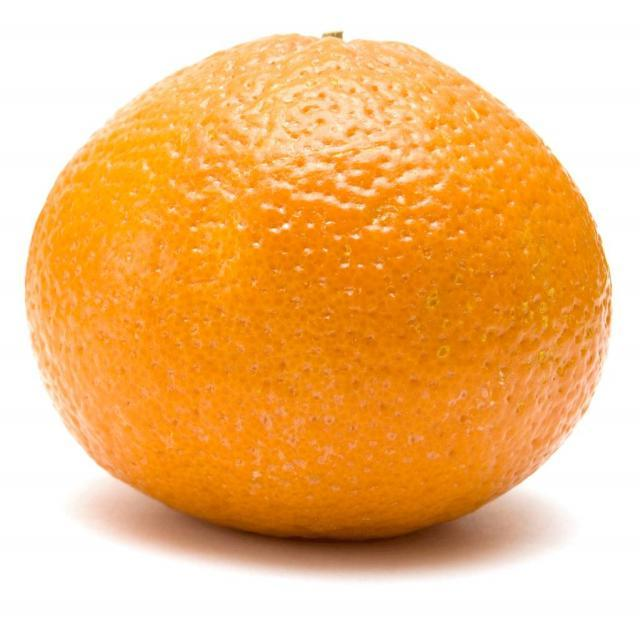Jeruk Sudah Matang: (23, 34, 615, 545)
